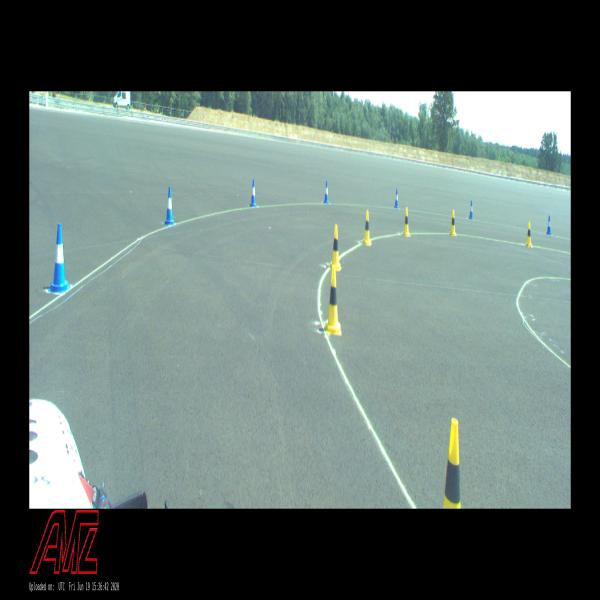blue_cone: (48, 223, 70, 294), (164, 186, 176, 226), (250, 179, 257, 206), (546, 215, 552, 235), (468, 200, 474, 220), (323, 181, 328, 204), (394, 189, 399, 208)
yellow_cone: (434, 421, 469, 508), (324, 268, 342, 336), (330, 225, 342, 269), (363, 210, 372, 244), (402, 207, 410, 236), (450, 210, 458, 236), (525, 221, 533, 247)
